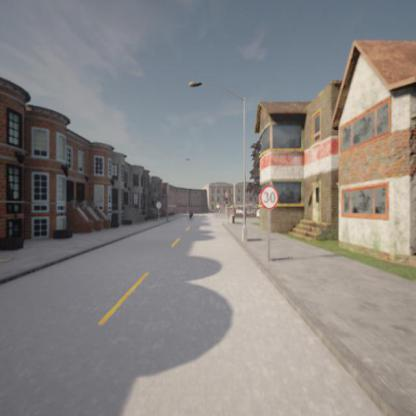traffic_sign_30: (260, 185, 278, 210)
